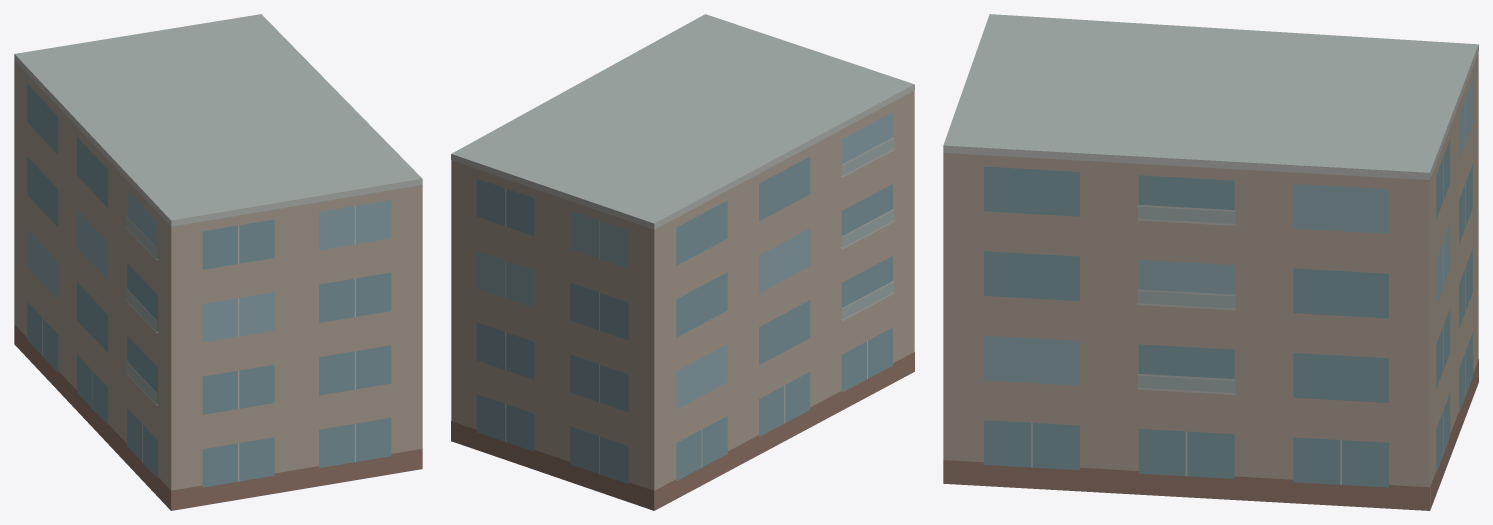
The model's file is survey-upis-32614922.glb.
3 renders of one model, left to right at view 1: azimuth 30°, elevation 25°; view 2: azimuth 150°, elevation 25°; view 3: azimuth 270°, elevation 25°, orthographic. The views are drawn at different scales.
Parts seen in each view (by area): view 1: survey-upis-32614922.tmp; view 2: survey-upis-32614922.tmp; view 3: survey-upis-32614922.tmp.
Part boxes in pixels (box(x1,y1,x2,y2)): survey-upis-32614922.tmp: box(14, 14, 422, 510); survey-upis-32614922.tmp: box(451, 14, 914, 510); survey-upis-32614922.tmp: box(943, 14, 1478, 510).
Size of the model in its own units: 11.39 by 11.3 by 16.23.
